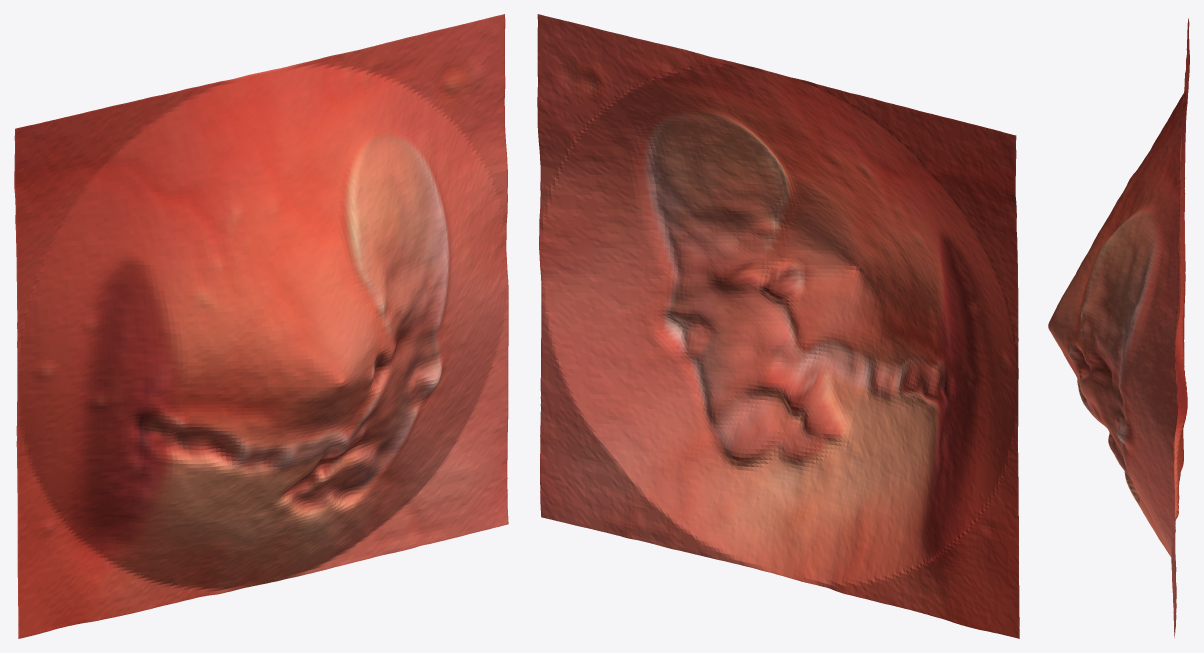
Rendered from week11.glb.
3 views of the same model, side by side, from view 1: azimuth 30°, elevation 25°; view 2: azimuth 150°, elevation 25°; view 3: azimuth 270°, elevation 25° (orthographic). The views are drawn at different scales.
Visible parts, largest first — view 1: world; view 2: world; view 3: world.
Boxes of the visible parts, <box> form: world: <box>14,14,508,638</box>; world: <box>537,14,1019,638</box>; world: <box>1048,18,1189,637</box>.
Bounding box in the file's own units: 2 × 2 × 0.6026.
1 material, 1 textured.
